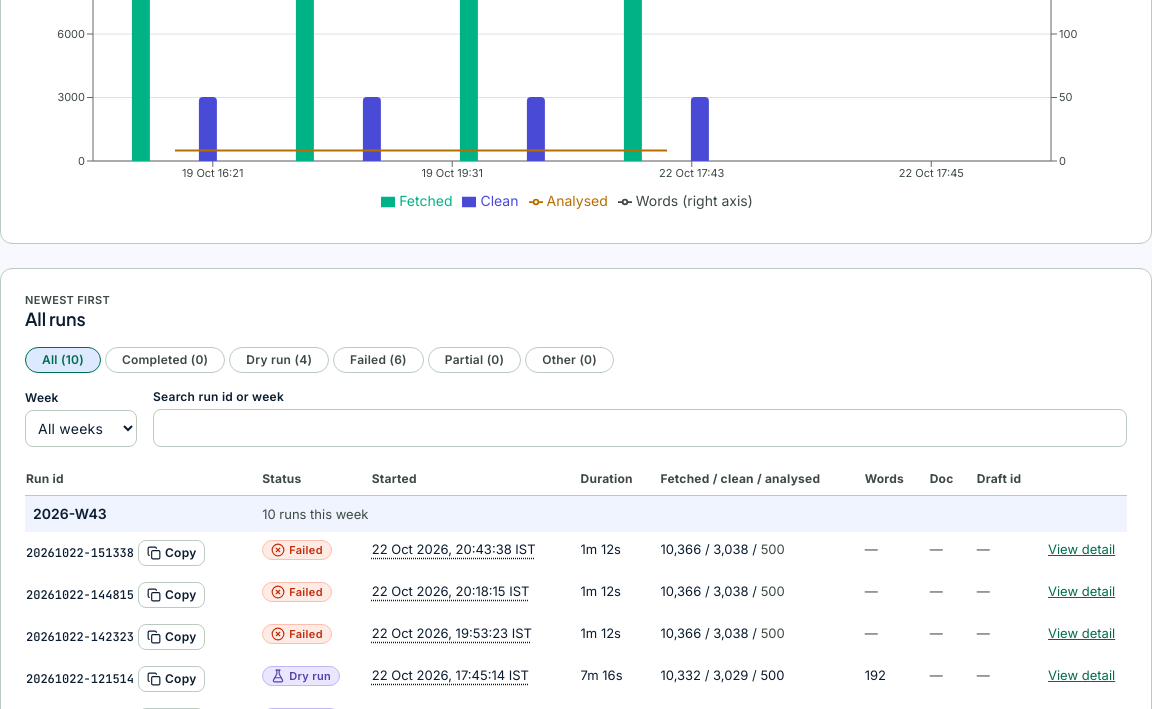
Test case: runs table › filters by tab
The width and height of the screenshot is (1152, 709).
(page scrolled)
Step 1. Click the tab "Dry run (4)" → point(279, 360), box [229,347,329,373]
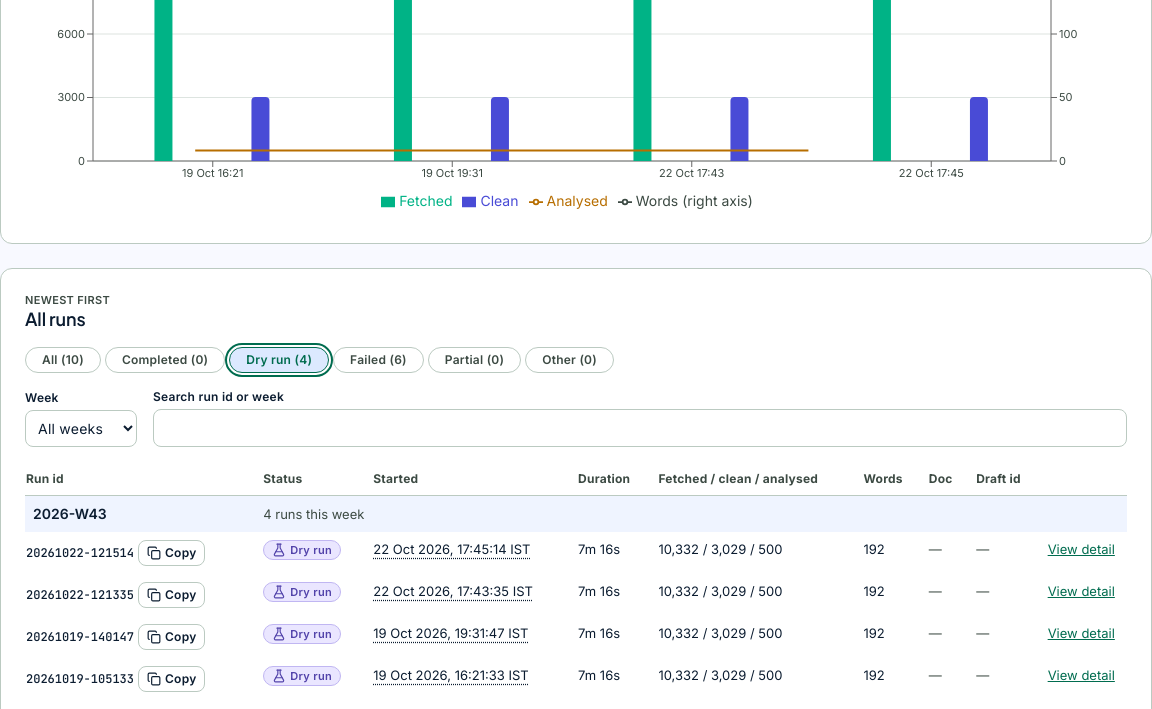
Result: the number of links "View detail" is 4 at [1048,541,1115,557]; [1048,583,1115,599]; [1048,625,1115,641]; [1048,667,1115,683]
